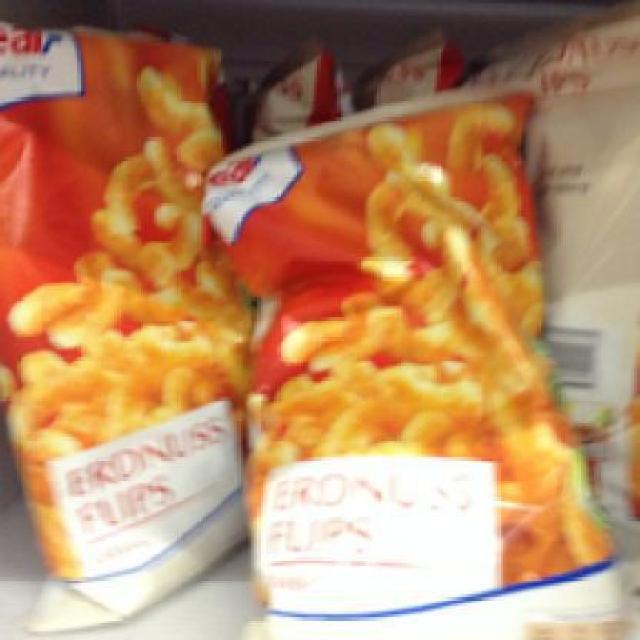Chips: (203, 89, 608, 637), (1, 17, 252, 626)
